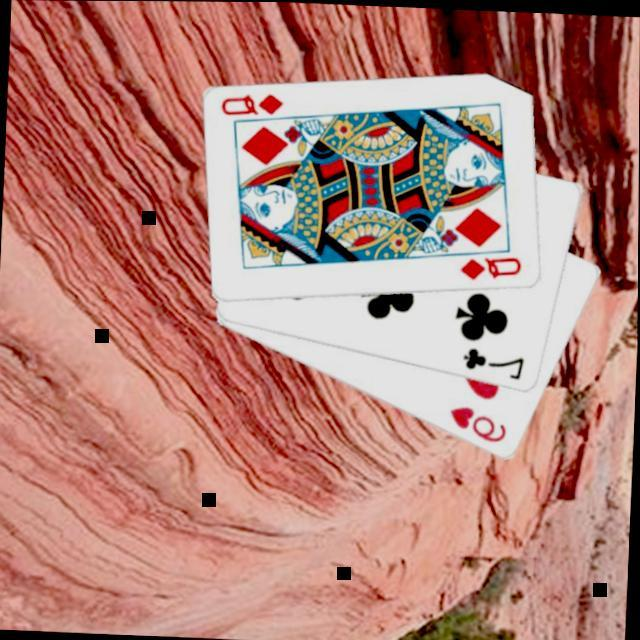6H: (448, 402, 512, 447)
7C: (461, 344, 530, 383)
QD: (458, 252, 528, 286), (219, 90, 290, 122)
